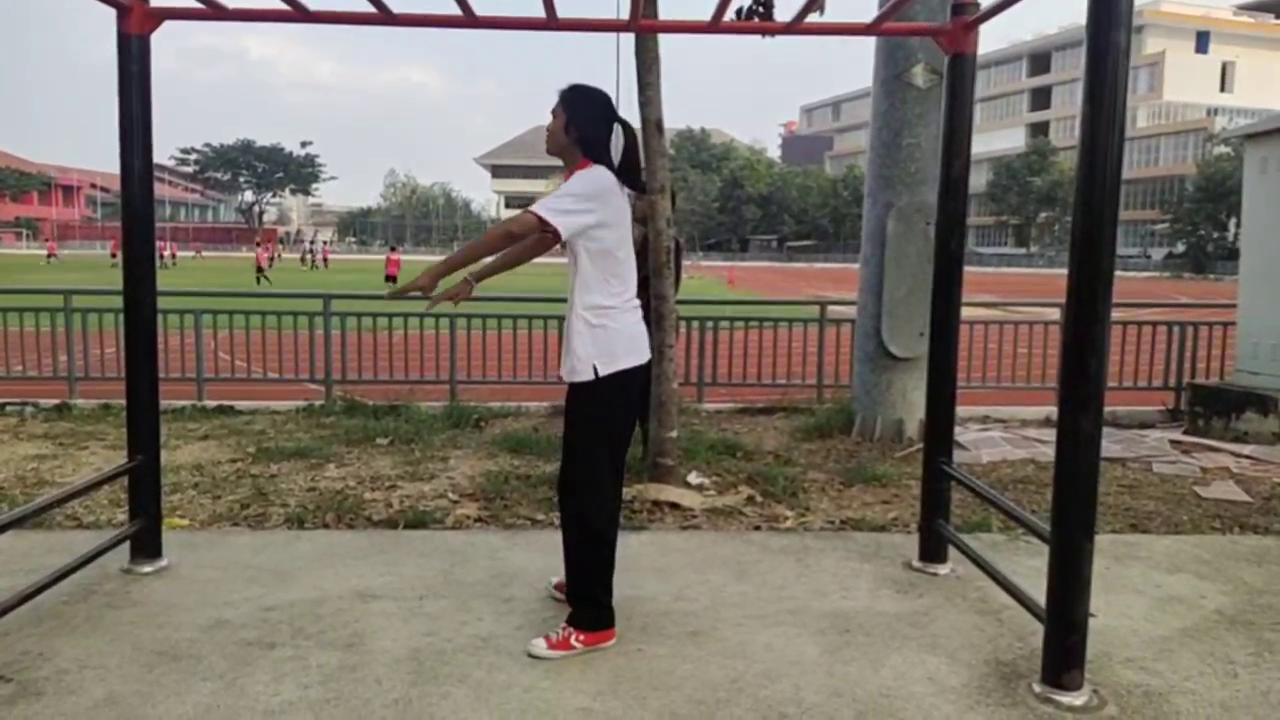squat up: (390, 85, 658, 659)
